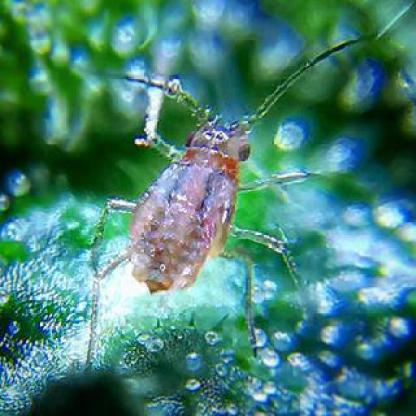aphid: (62, 52, 360, 335)
